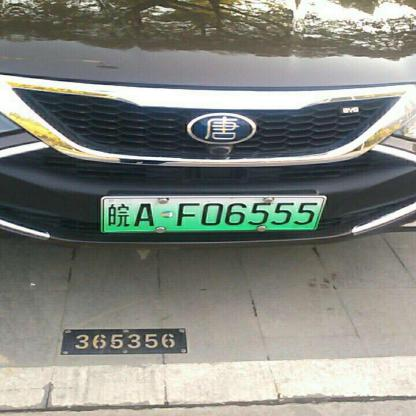lp: (101, 197, 324, 230)
